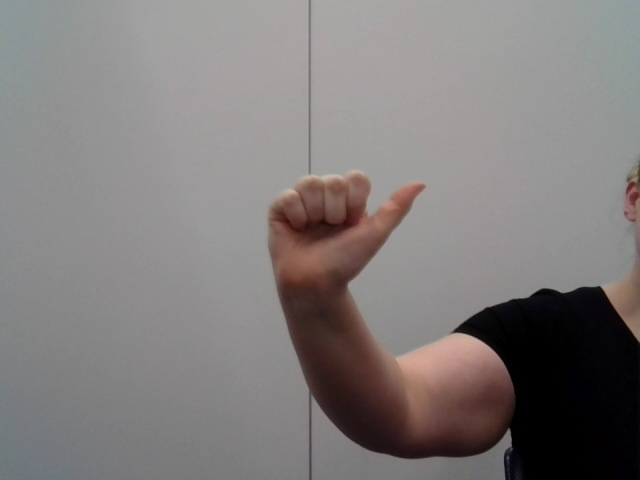left: (240, 159, 443, 309)
